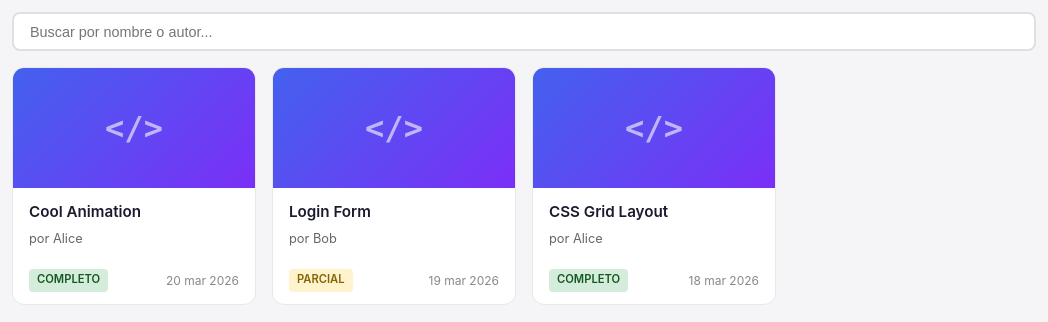
Test: ProjectGrid › search filters by author
The image size is (1048, 322).
Type "Alice" into the field with placeholder "Buscar por nombre o autor..." at (524, 32), box [12,12,1036,51]
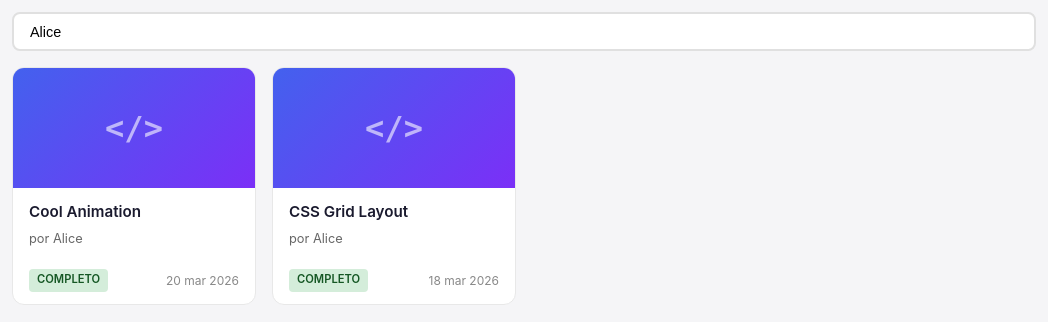
expect the heading "Cool Animation" is shown: met, box [29,202,141,221]
expect the heading "Login Form" is gone: met
